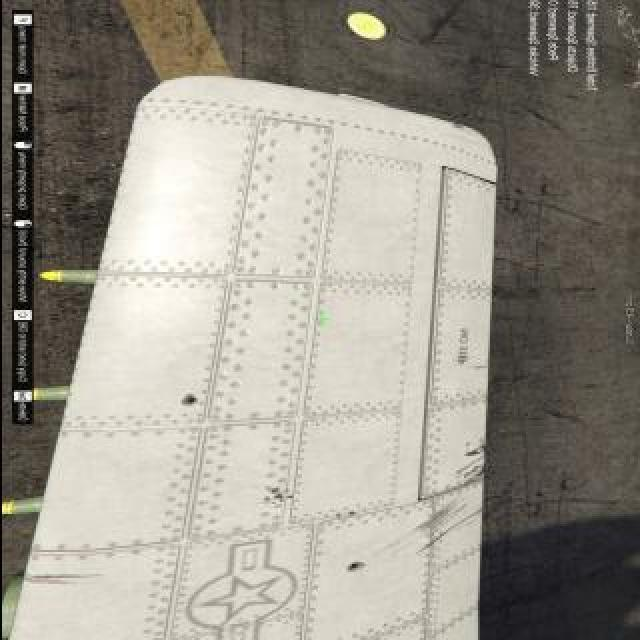crack: (262, 488, 294, 504), (178, 392, 202, 408), (342, 560, 366, 576)
dent: (413, 501, 453, 531), (420, 523, 461, 552), (421, 509, 450, 531), (440, 506, 465, 528), (456, 456, 485, 473), (465, 444, 487, 456), (464, 508, 482, 521), (464, 466, 481, 478), (471, 471, 484, 478)
